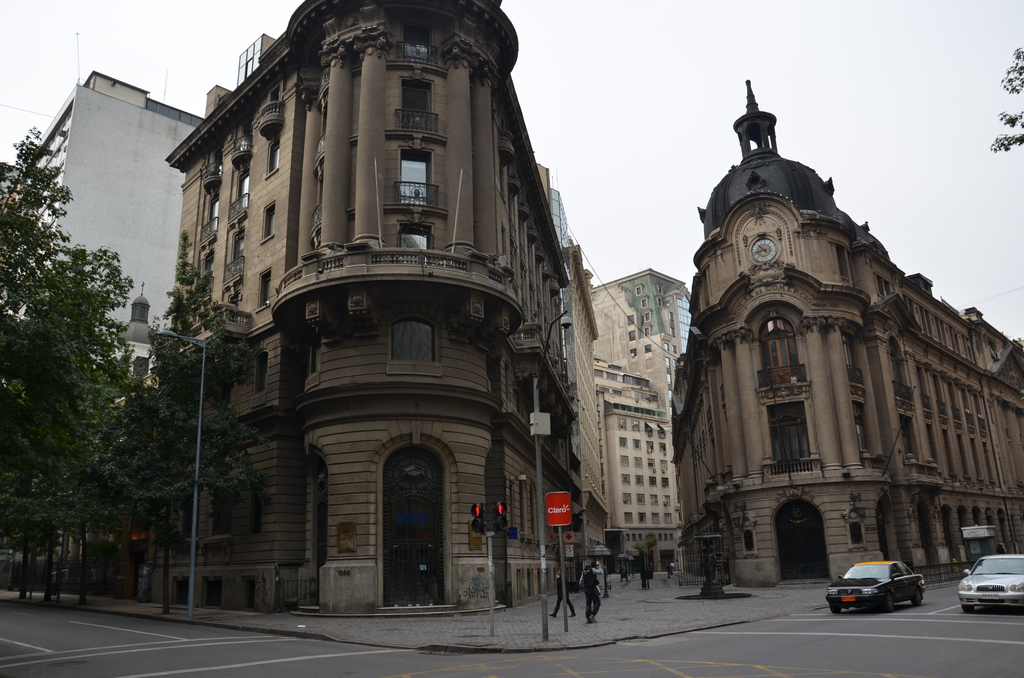Car: (830, 563, 928, 622), (960, 549, 1023, 615)
